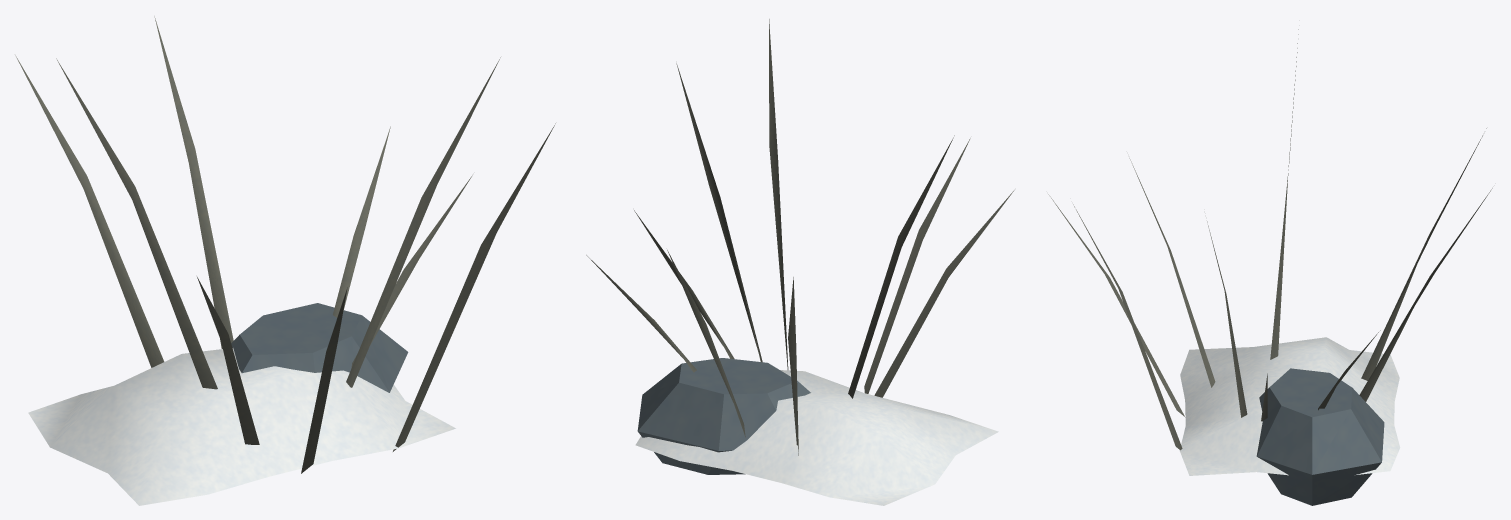
3 renders of one model, left to right at view 1: azimuth 30°, elevation 25°; view 2: azimuth 150°, elevation 25°; view 3: azimuth 270°, elevation 25°, orthographic. The views are drawn at different scales.
Parts seen in each view (by area): view 1: Mesh_surface; view 2: Mesh_surface; view 3: Mesh_surface.
Boxes of the visible parts, x1,y1,x2,y2 form: Mesh_surface: (15, 16, 555, 505); Mesh_surface: (586, 19, 1014, 505); Mesh_surface: (1048, 29, 1492, 505).
Bounding box in the file's own units: 0.3375 × 0.355 × 0.4045.
Materials: 1 (1 with a texture image).
